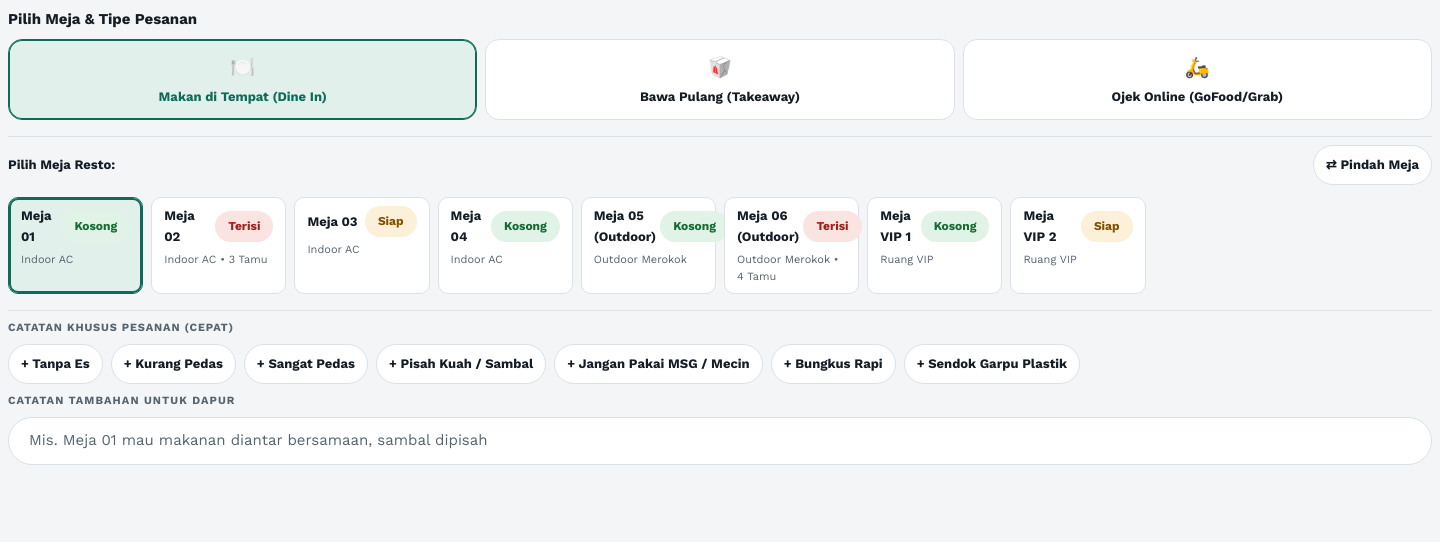
it: PemilihMeja (T3-03 & T3-06) › menjalankan alur pindah meja saat tombol pindah meja aktif (T3-06)
Note: Klik tombol Pindah Meja
Click the button "⇄ Pindah Meja".
click(1372, 165)  # box [1313, 145, 1432, 185]
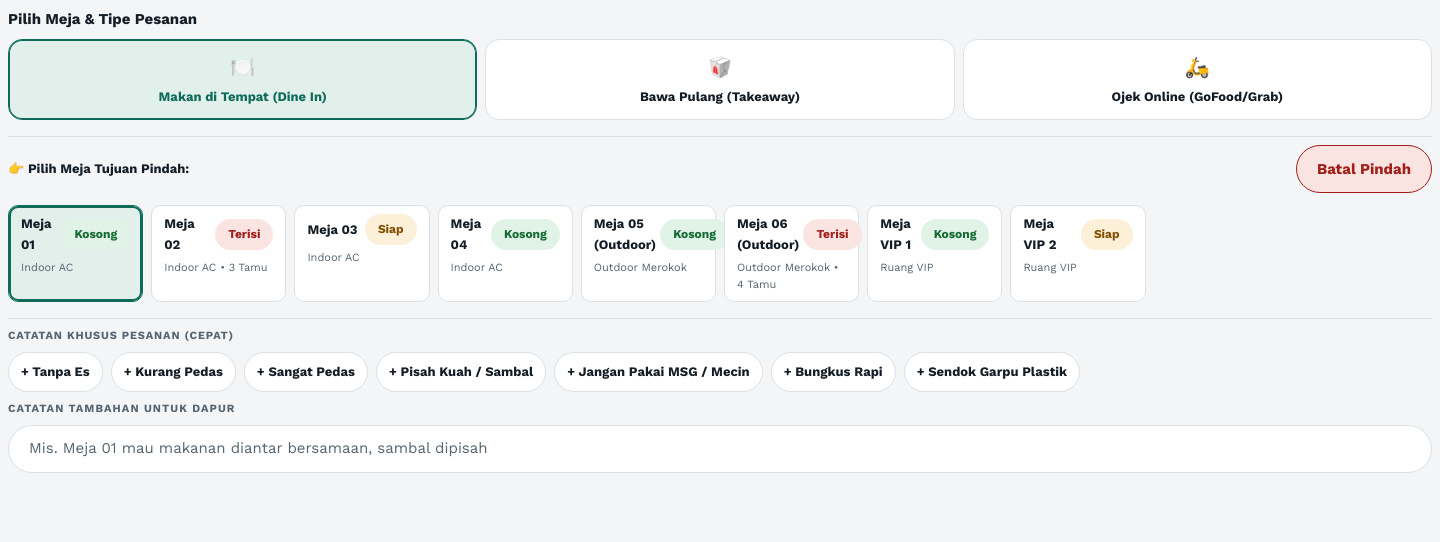
Note: Klik Meja 04 sebagai meja tujuan
Click the text "Meja 04".
click(466, 234)  # box [451, 216, 481, 252]
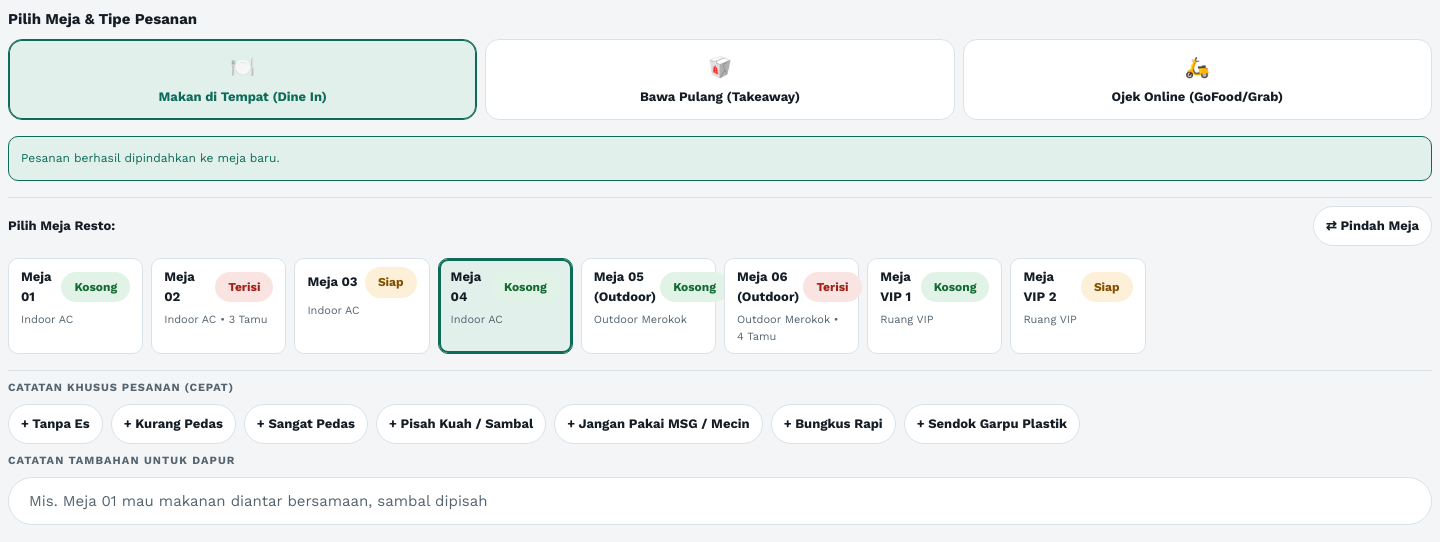
Expected: the text "Pesanan berhasil dipindahkan ke meja baru." is shown, [8, 136, 1432, 181]
